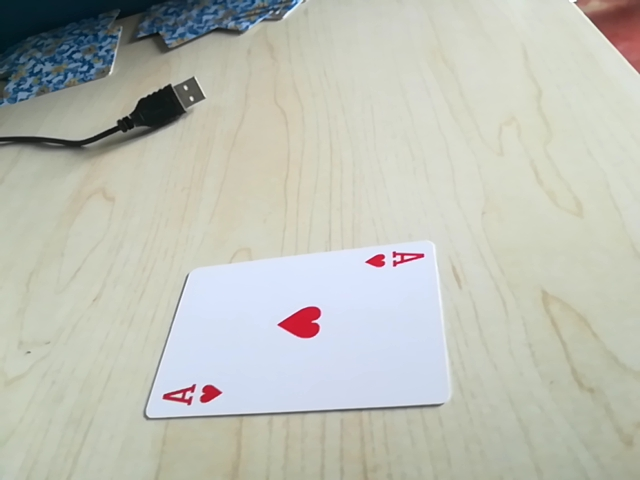hx a: (158, 378, 229, 411), (361, 244, 430, 277)
